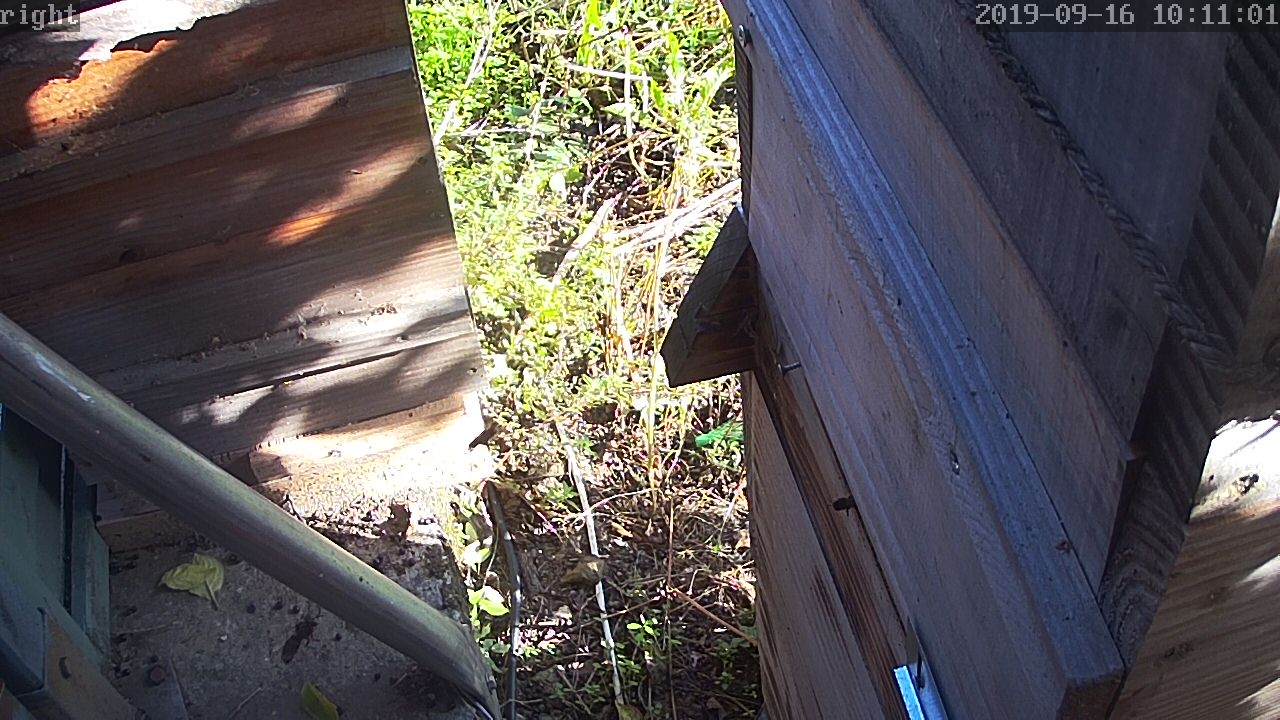bee: (829, 487, 857, 520)
hornet: (277, 620, 325, 667)
